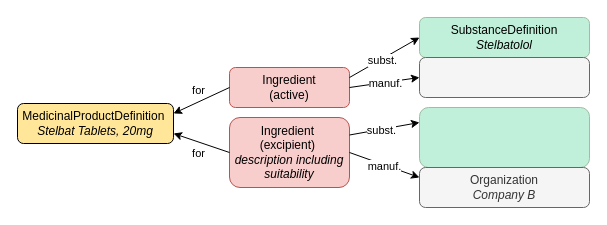
This 607x225 diagram has some shape labels left out. The centre of each missing label's shape, as x and y in pixels:
Organization Company A: point 504,77
SubstanceDefinition Deactivated goat albumin, source: species, part, country: point 504,137
